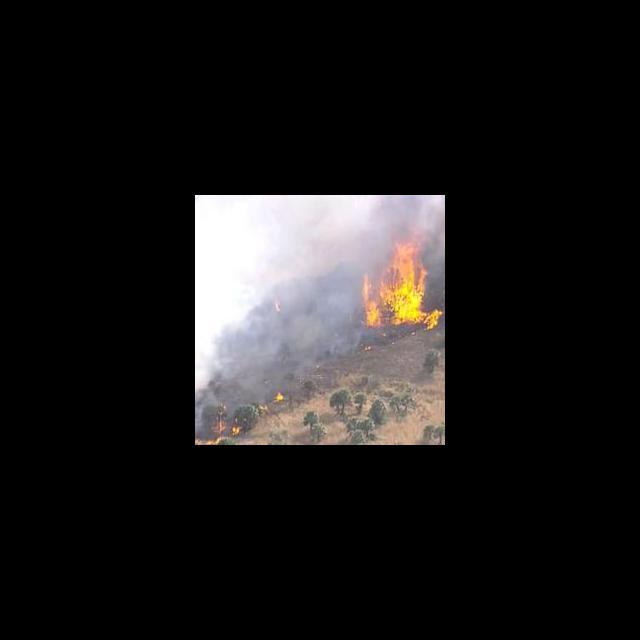Fire: (357, 223, 444, 331), (274, 392, 284, 404)
Smoke: (214, 202, 351, 342)
